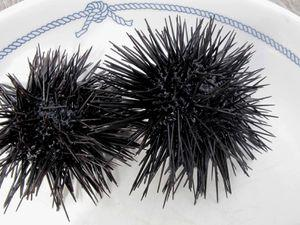urchin: (119, 27, 264, 185), (2, 54, 127, 202)
